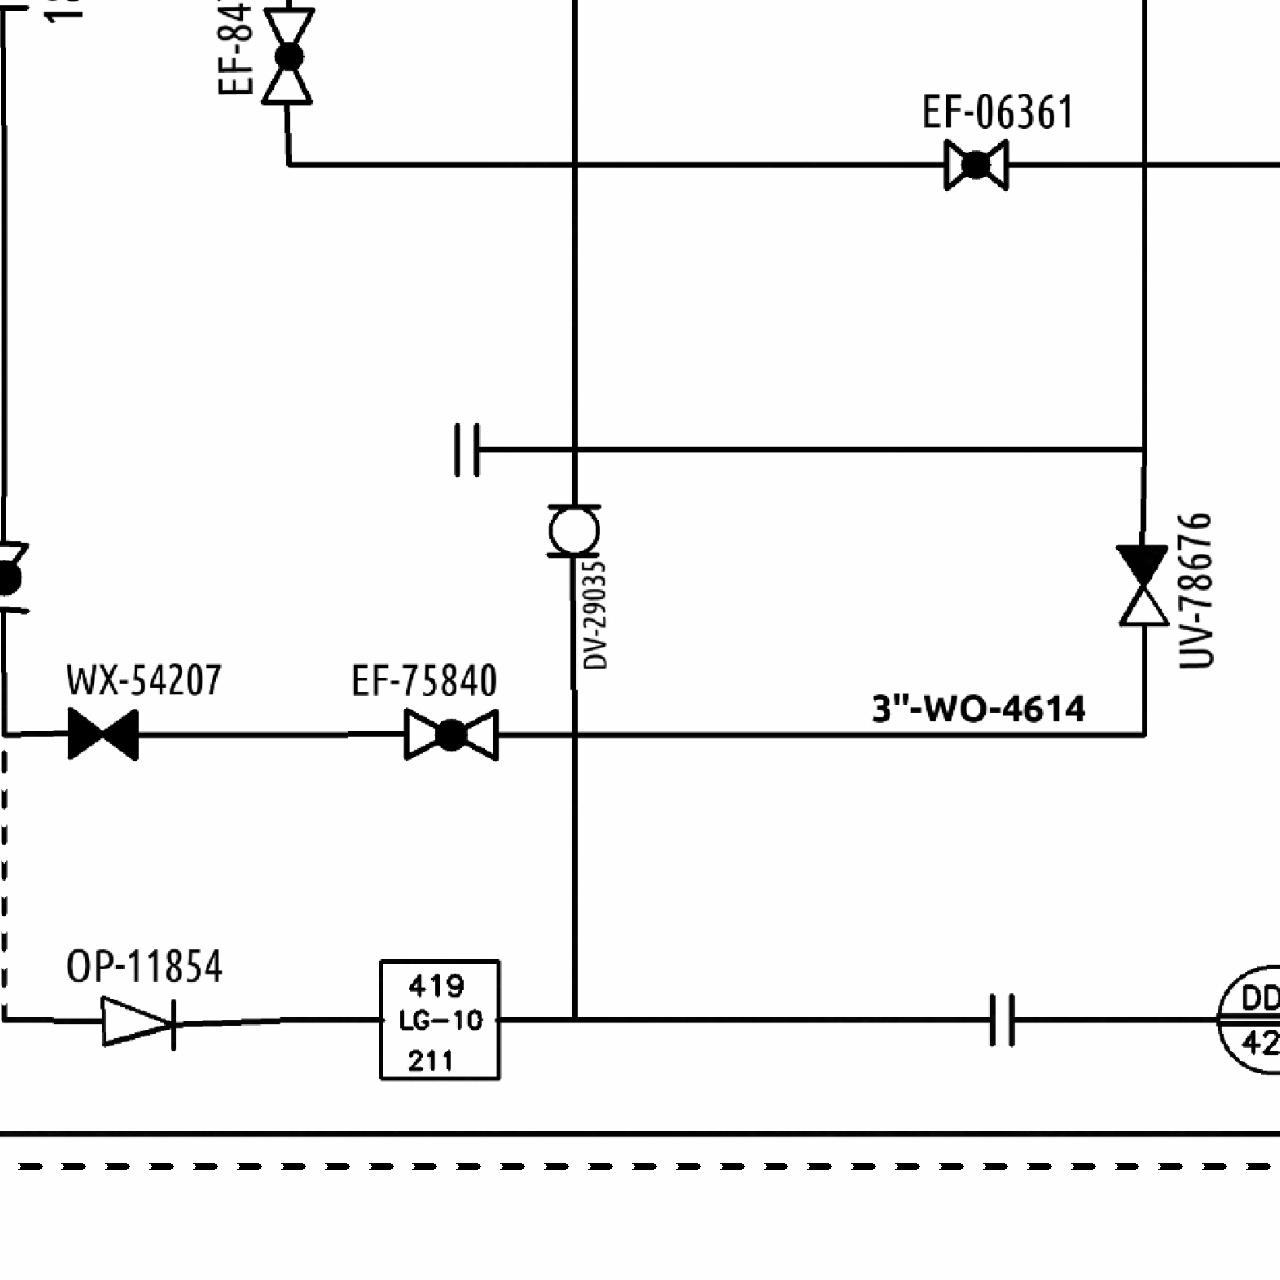Half closed valve: (1111, 540, 1173, 629)
